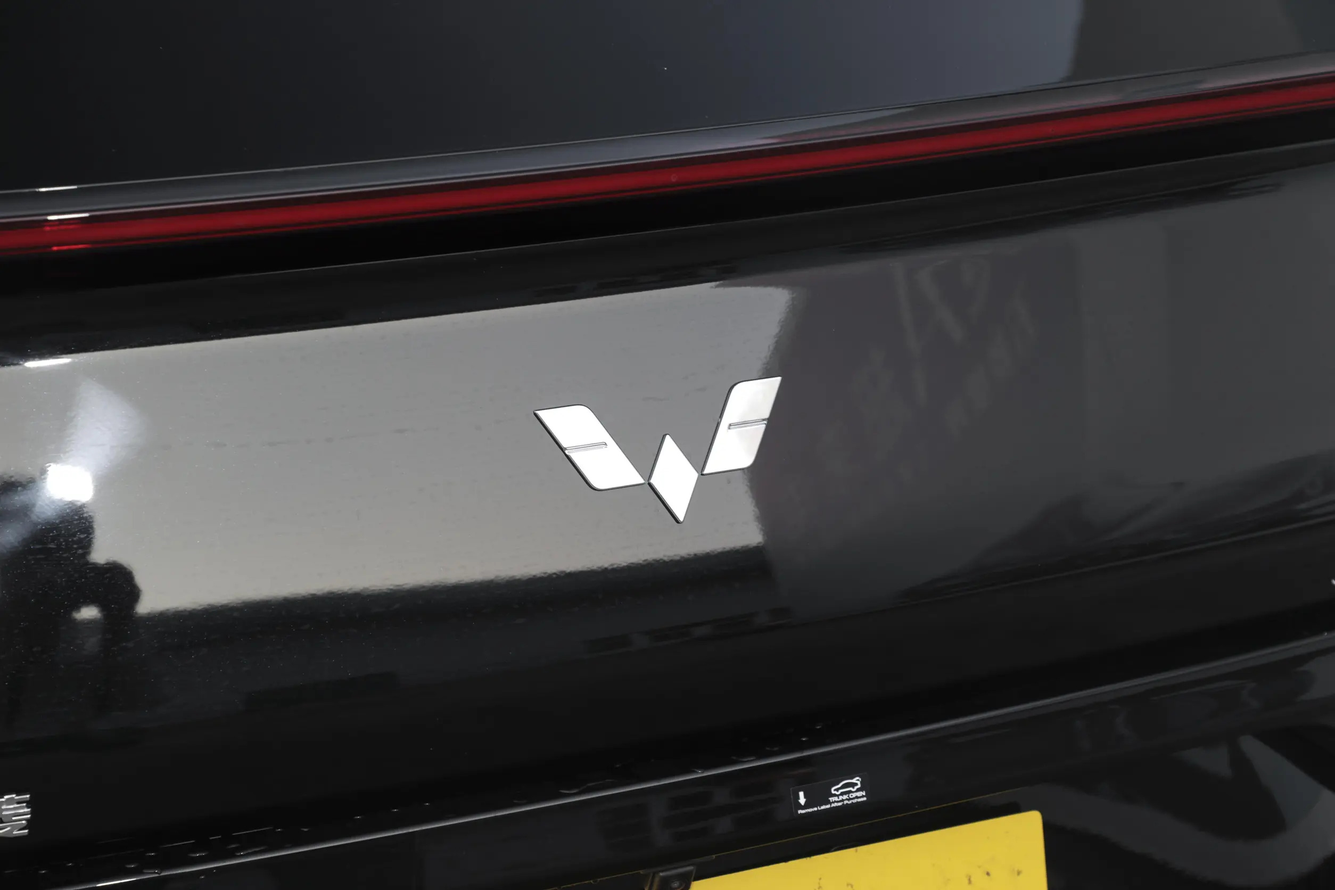SGMW: (533, 377, 780, 522)
